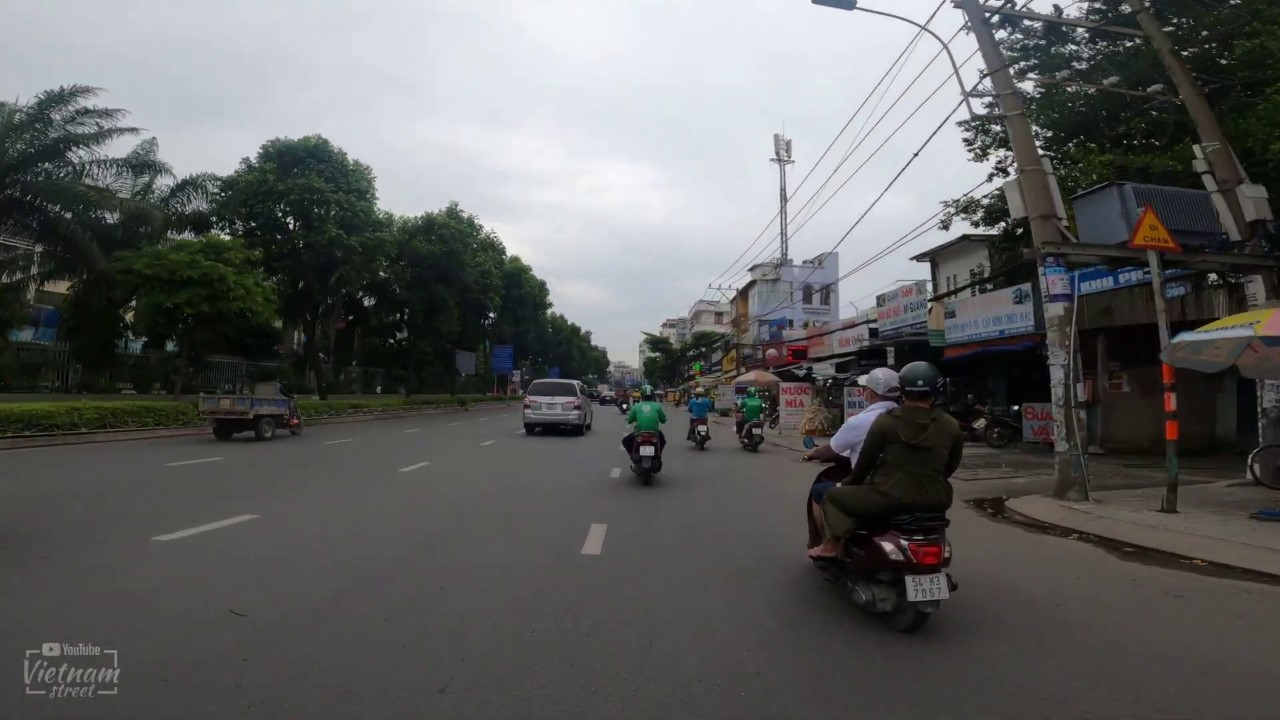di_cham: (1127, 203, 1182, 251)
